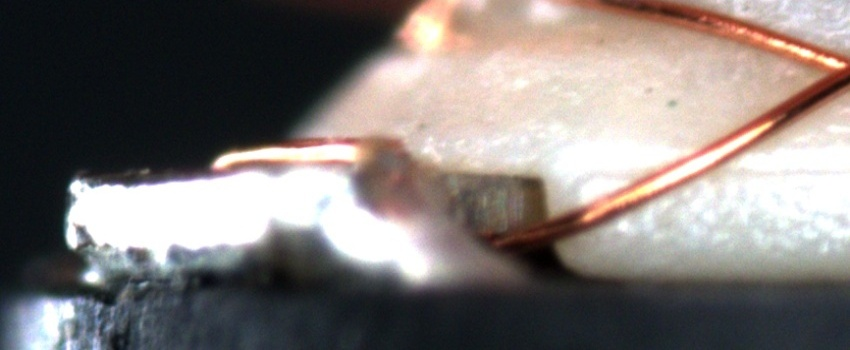CL: (799, 37, 849, 104)
DL: (621, 140, 849, 204)
TE: (198, 124, 414, 186)
